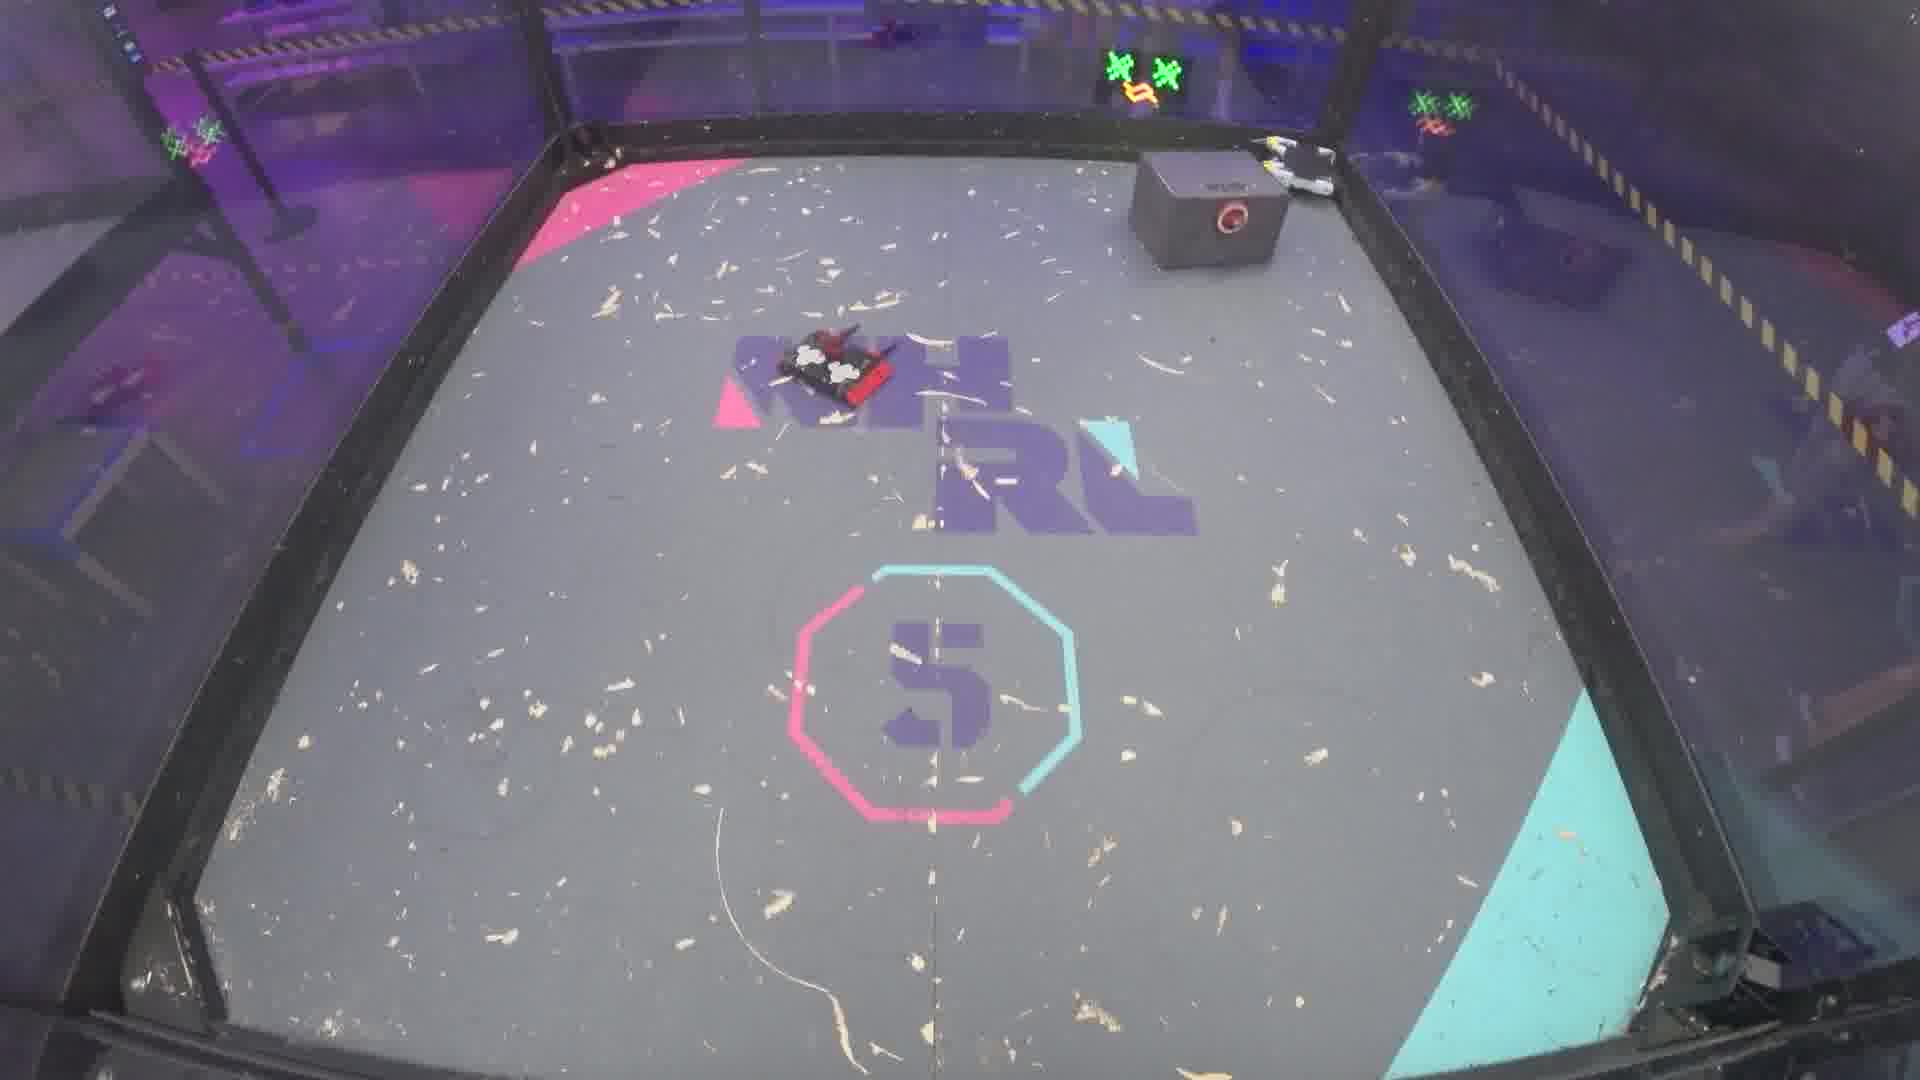combatbot: (777, 326, 893, 406), (1255, 136, 1338, 196)
housebot: (1130, 152, 1283, 269)
